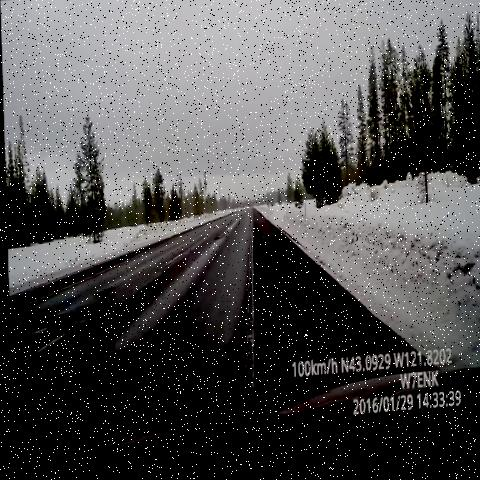pothole: (7, 311, 64, 346), (86, 276, 120, 308), (206, 227, 225, 255)
